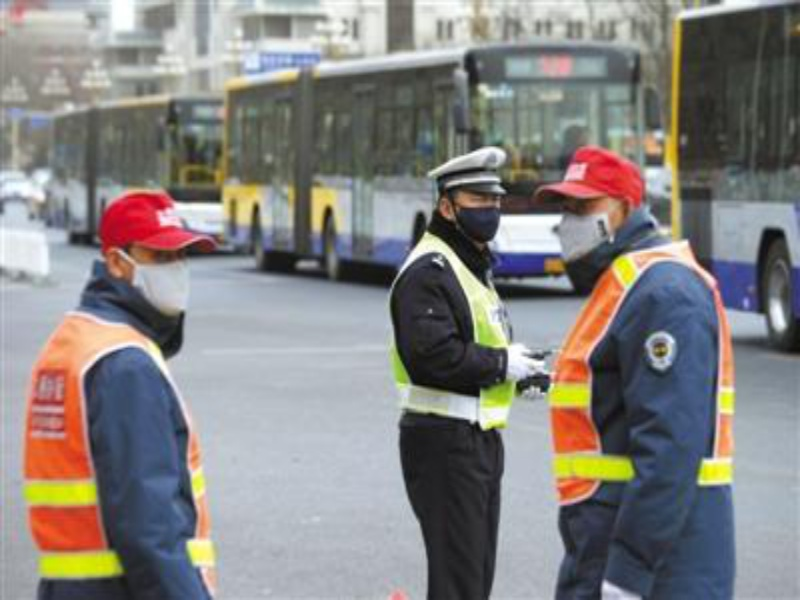mask: (97, 185, 209, 315), (541, 151, 647, 256), (427, 145, 511, 238)
